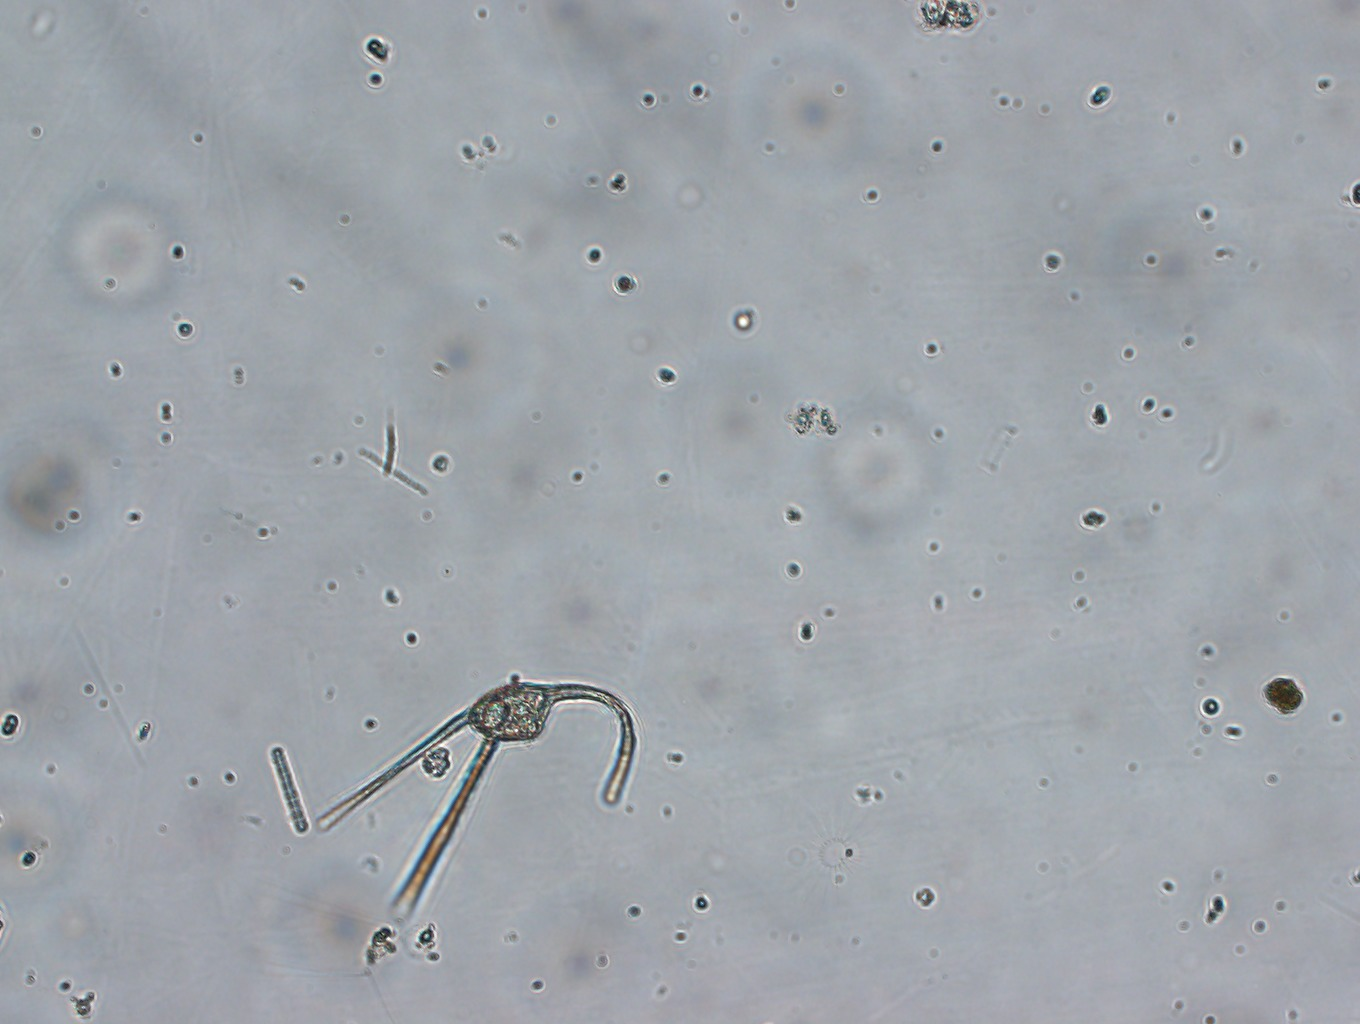ceratium trichoceros: (307, 659, 645, 922)
